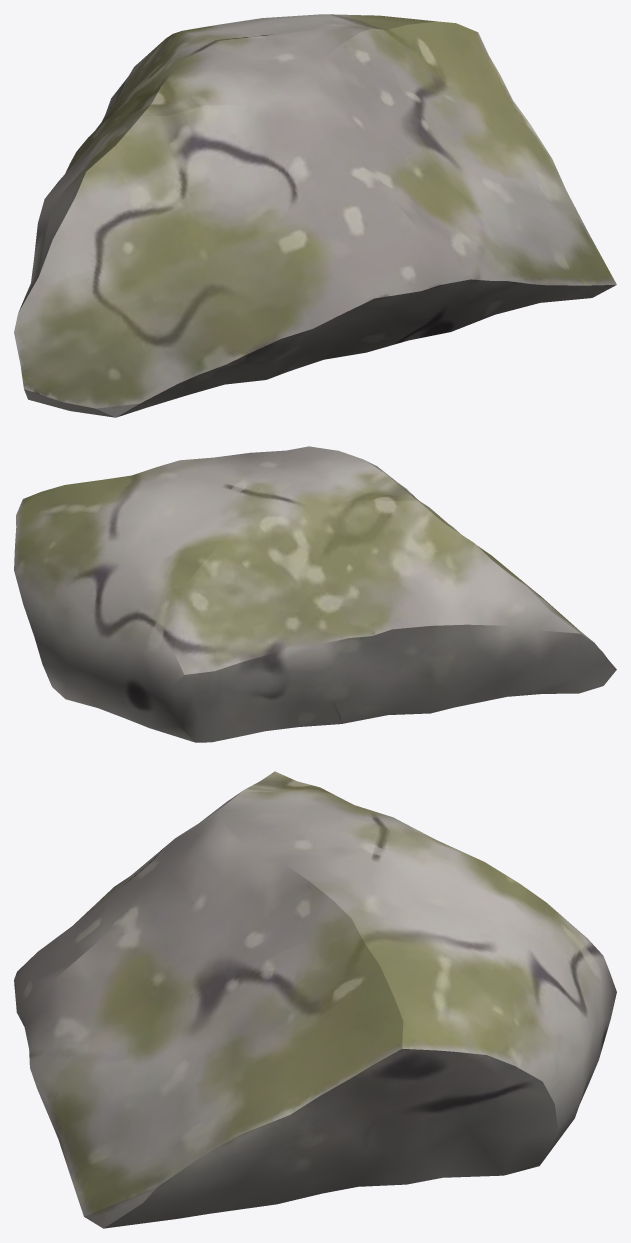
The model's file is rockC.glb.
3 renders of one model, top to bottom at view 1: azimuth 30°, elevation 25°; view 2: azimuth 150°, elevation 25°; view 3: azimuth 270°, elevation 25°, orthographic. The views are drawn at different scales.
Parts seen in each view (by area): view 1: low; view 2: low; view 3: low.
Boxes of the visible parts, x1,y1,x2,y2 form: low: (14, 14, 616, 417); low: (14, 446, 616, 742); low: (14, 771, 616, 1228).
Bounding box in the file's own units: 2.39 × 0.9238 × 1.94.
1 material, 1 textured.
